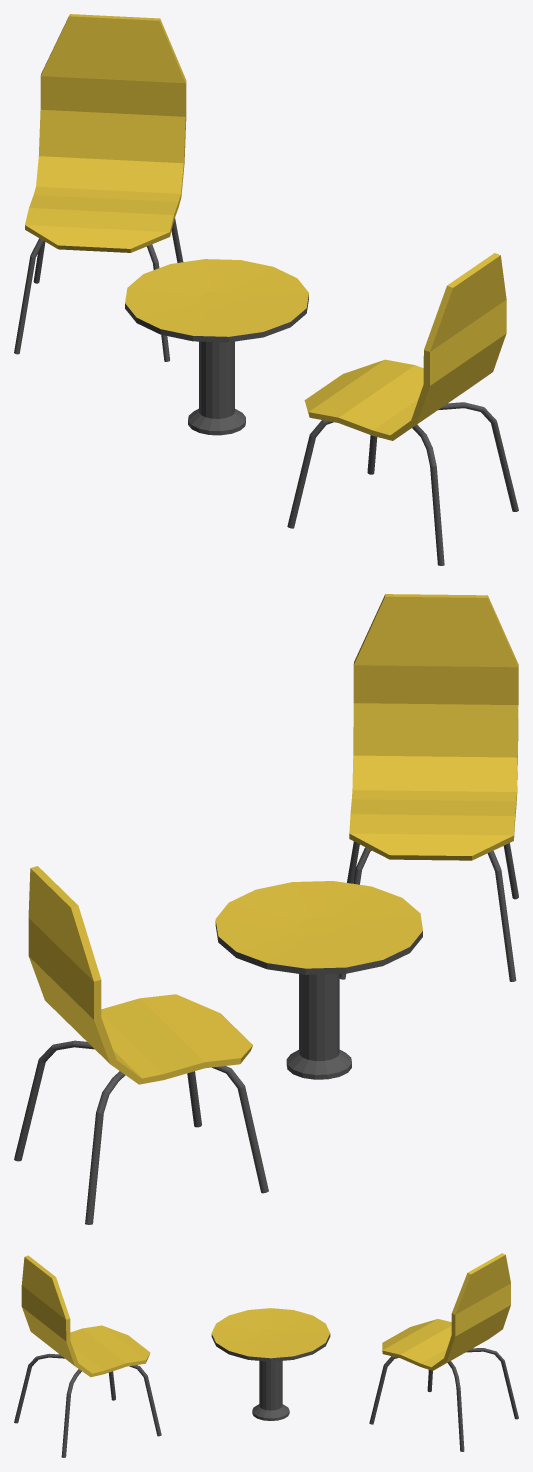
Rendered from CafeFurniture.fbx.
3 views of the same model, one above another, from view 1: azimuth 30°, elevation 25°; view 2: azimuth 150°, elevation 25°; view 3: azimuth 270°, elevation 25° (orthographic). The views are drawn at different scales.
Parts seen in each view (by area): view 1: Plane.035, Table, Plane.034, ChairLegs4, ChairLegs3; view 2: Plane.034, Table, Plane.035, ChairLegs3, ChairLegs4; view 3: Plane.035, Table, Plane.034, ChairLegs4, ChairLegs3.
Part boxes in pixels (box(x1,y1,x2,y2)): Plane.035: box(25, 14, 186, 252); Table: box(125, 259, 308, 435); Plane.034: box(304, 253, 506, 440); ChairLegs4: box(287, 402, 518, 565); ChairLegs3: box(14, 218, 183, 361); Plane.034: box(349, 594, 518, 860); Table: box(215, 881, 422, 1079); Plane.035: box(28, 866, 252, 1084); ChairLegs3: box(14, 1040, 268, 1224); ChairLegs4: box(339, 841, 518, 981); Plane.035: box(382, 1253, 510, 1370); Table: box(211, 1308, 330, 1420); Plane.034: box(21, 1255, 150, 1377); ChairLegs4: box(14, 1353, 161, 1457); ChairLegs3: box(369, 1348, 518, 1451).
Size of the model in its own units: 172 by 55.38 by 64.86.
